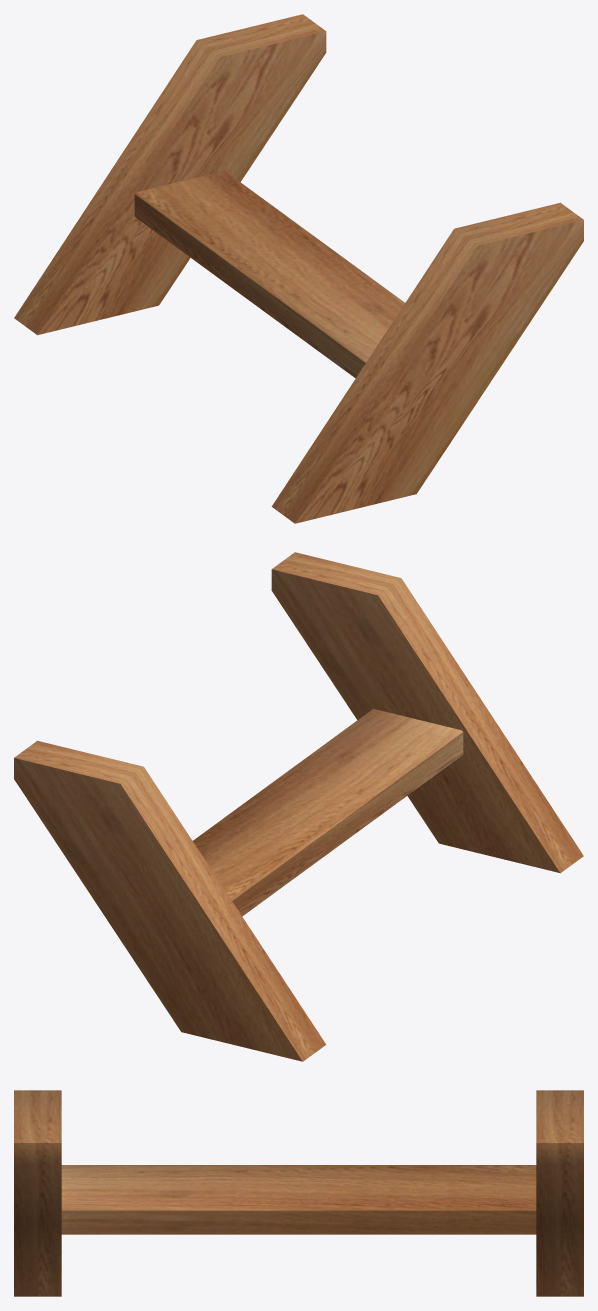
The picture shows the model from 3 angles, top to bottom: view 1: azimuth 30°, elevation 25°; view 2: azimuth 150°, elevation 25°; view 3: azimuth 270°, elevation 25°; orthographic projection.
Parts seen in each view (by area): view 1: Joint_0_Object_0; view 2: Joint_0_Object_0; view 3: Joint_0_Object_0.
Part boxes in pixels (x1,y1,x2,y2): Joint_0_Object_0: (14,14,583,523); Joint_0_Object_0: (14,552,583,1061); Joint_0_Object_0: (14,1090,583,1296).
Size of the model in its own units: 1425 by 1100 by 2400.
Materials: 1 (1 with a texture image).
